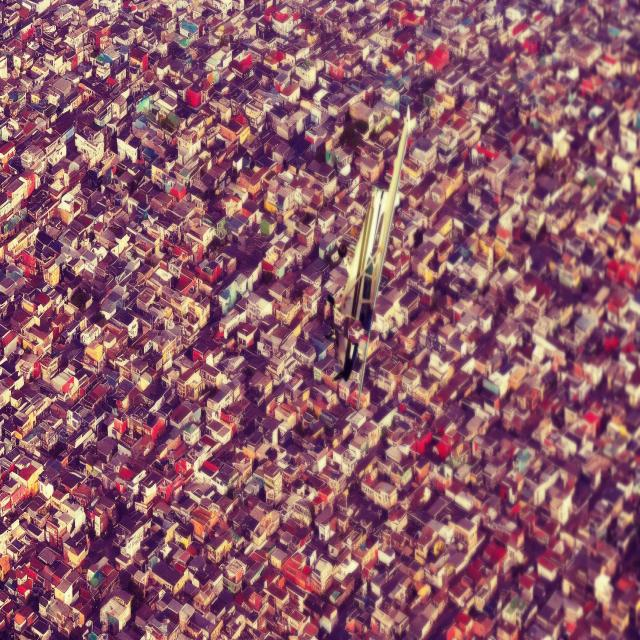airplane: (327, 104, 416, 385)
